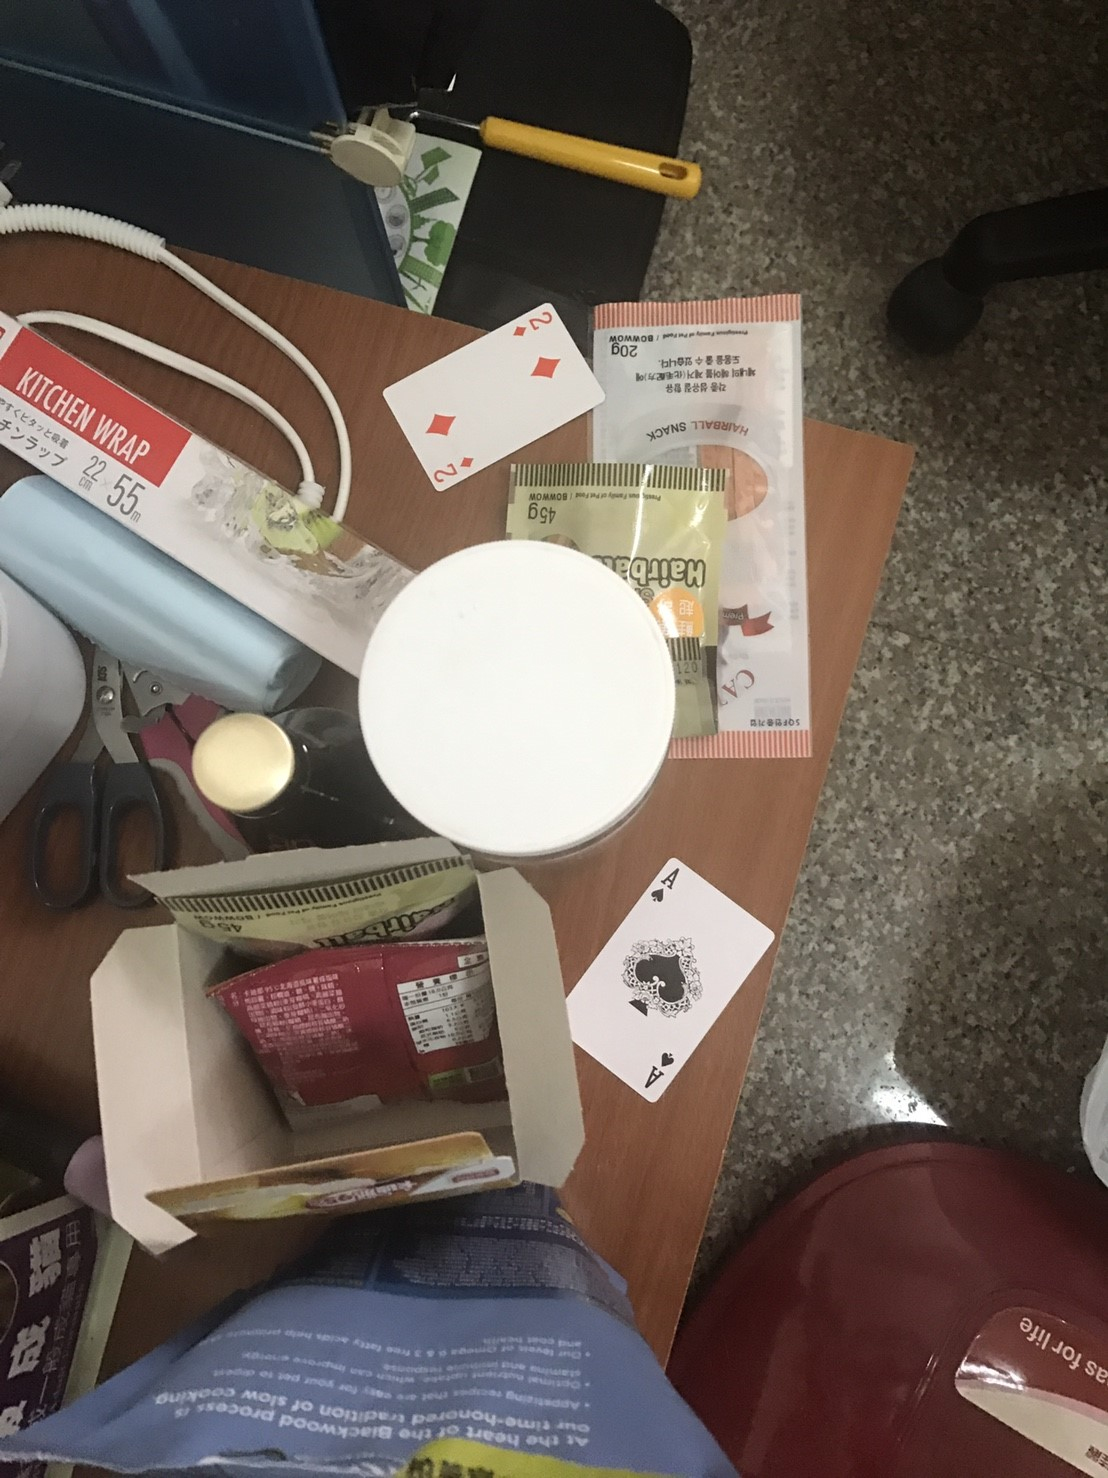diamonds: (422, 408, 460, 439), (531, 354, 567, 381), (512, 324, 531, 340), (457, 455, 477, 469)
spades: (620, 929, 708, 1021), (656, 1049, 681, 1071), (649, 887, 667, 903)
